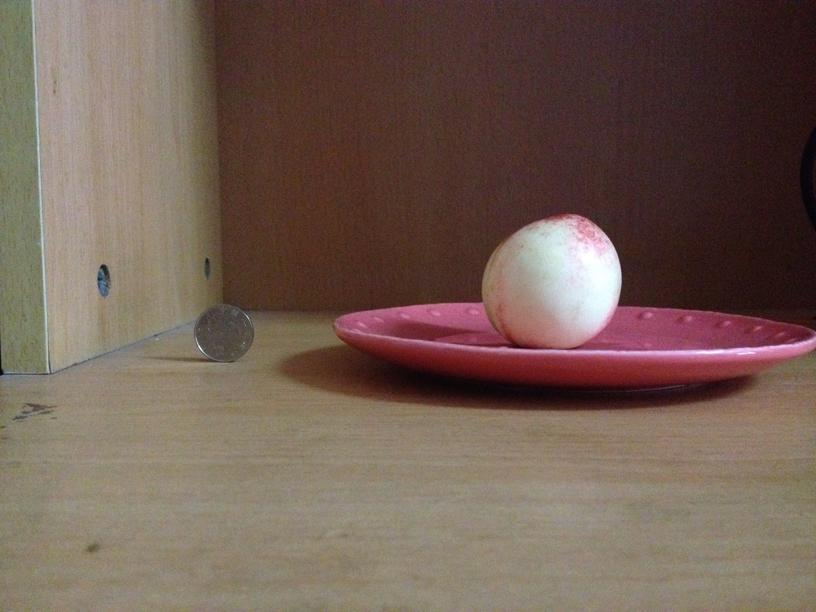coin: (192, 304, 252, 360)
peach: (475, 209, 623, 348)
